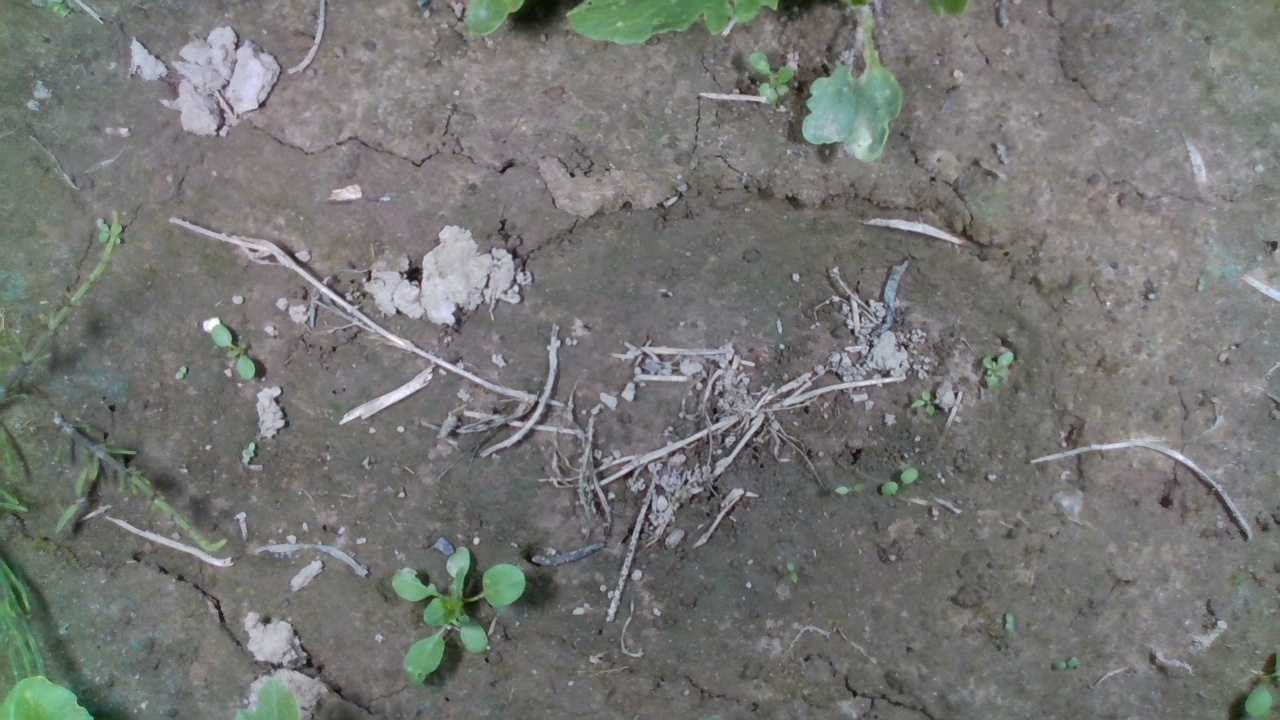weed: (210, 323, 256, 382), (746, 51, 792, 108), (983, 349, 1015, 390), (879, 467, 918, 500), (907, 386, 939, 417), (833, 481, 866, 495)
